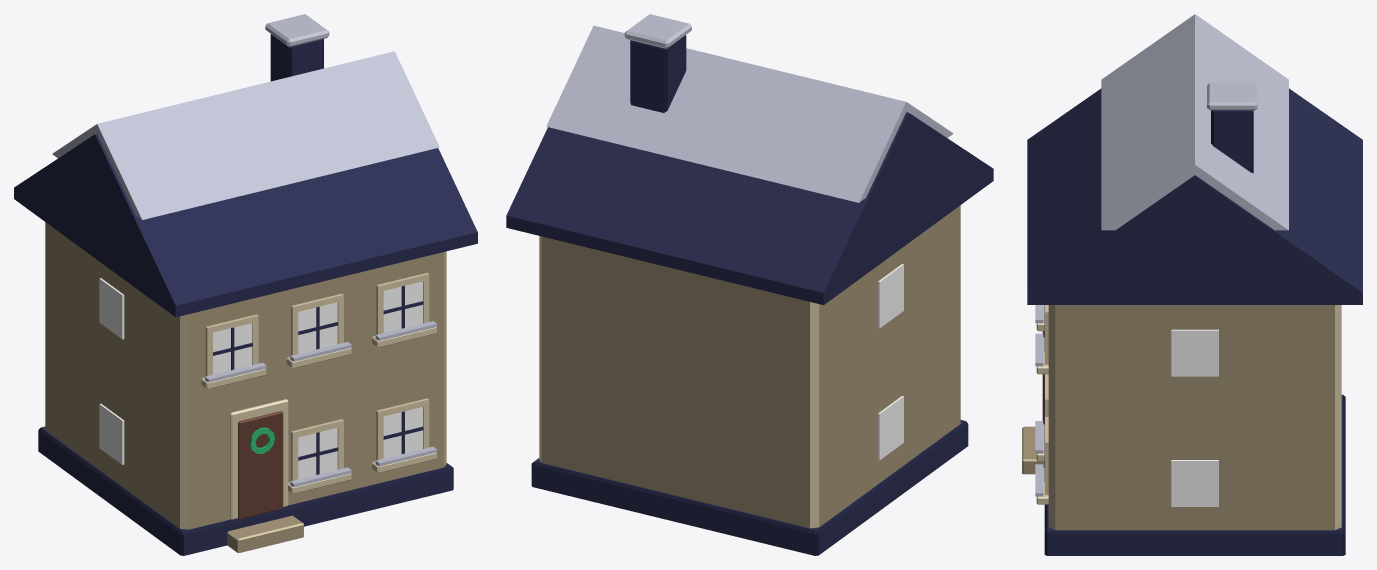
File: Intro_House_A.fbx
The picture shows the model from 3 angles, left to right: view 1: azimuth 30°, elevation 25°; view 2: azimuth 150°, elevation 25°; view 3: azimuth 270°, elevation 25°; orthographic projection. The views are drawn at different scales.
Parts seen in each view (by area): view 1: Intro_House_A, Intro_House_A_Windows; view 2: Intro_House_A, Intro_House_A_Windows; view 3: Intro_House_A, Intro_House_A_Windows.
Boxes of the visible parts, x1,y1,x2,y2 form: Intro_House_A: [14, 14, 477, 555]; Intro_House_A_Windows: [99, 278, 422, 479]; Intro_House_A: [506, 14, 993, 555]; Intro_House_A_Windows: [878, 264, 903, 460]; Intro_House_A: [1022, 14, 1362, 555]; Intro_House_A_Windows: [1171, 329, 1218, 506].
Size of the model in its own units: 13.6 by 17.79 by 12.8.
1 material, 1 textured.
